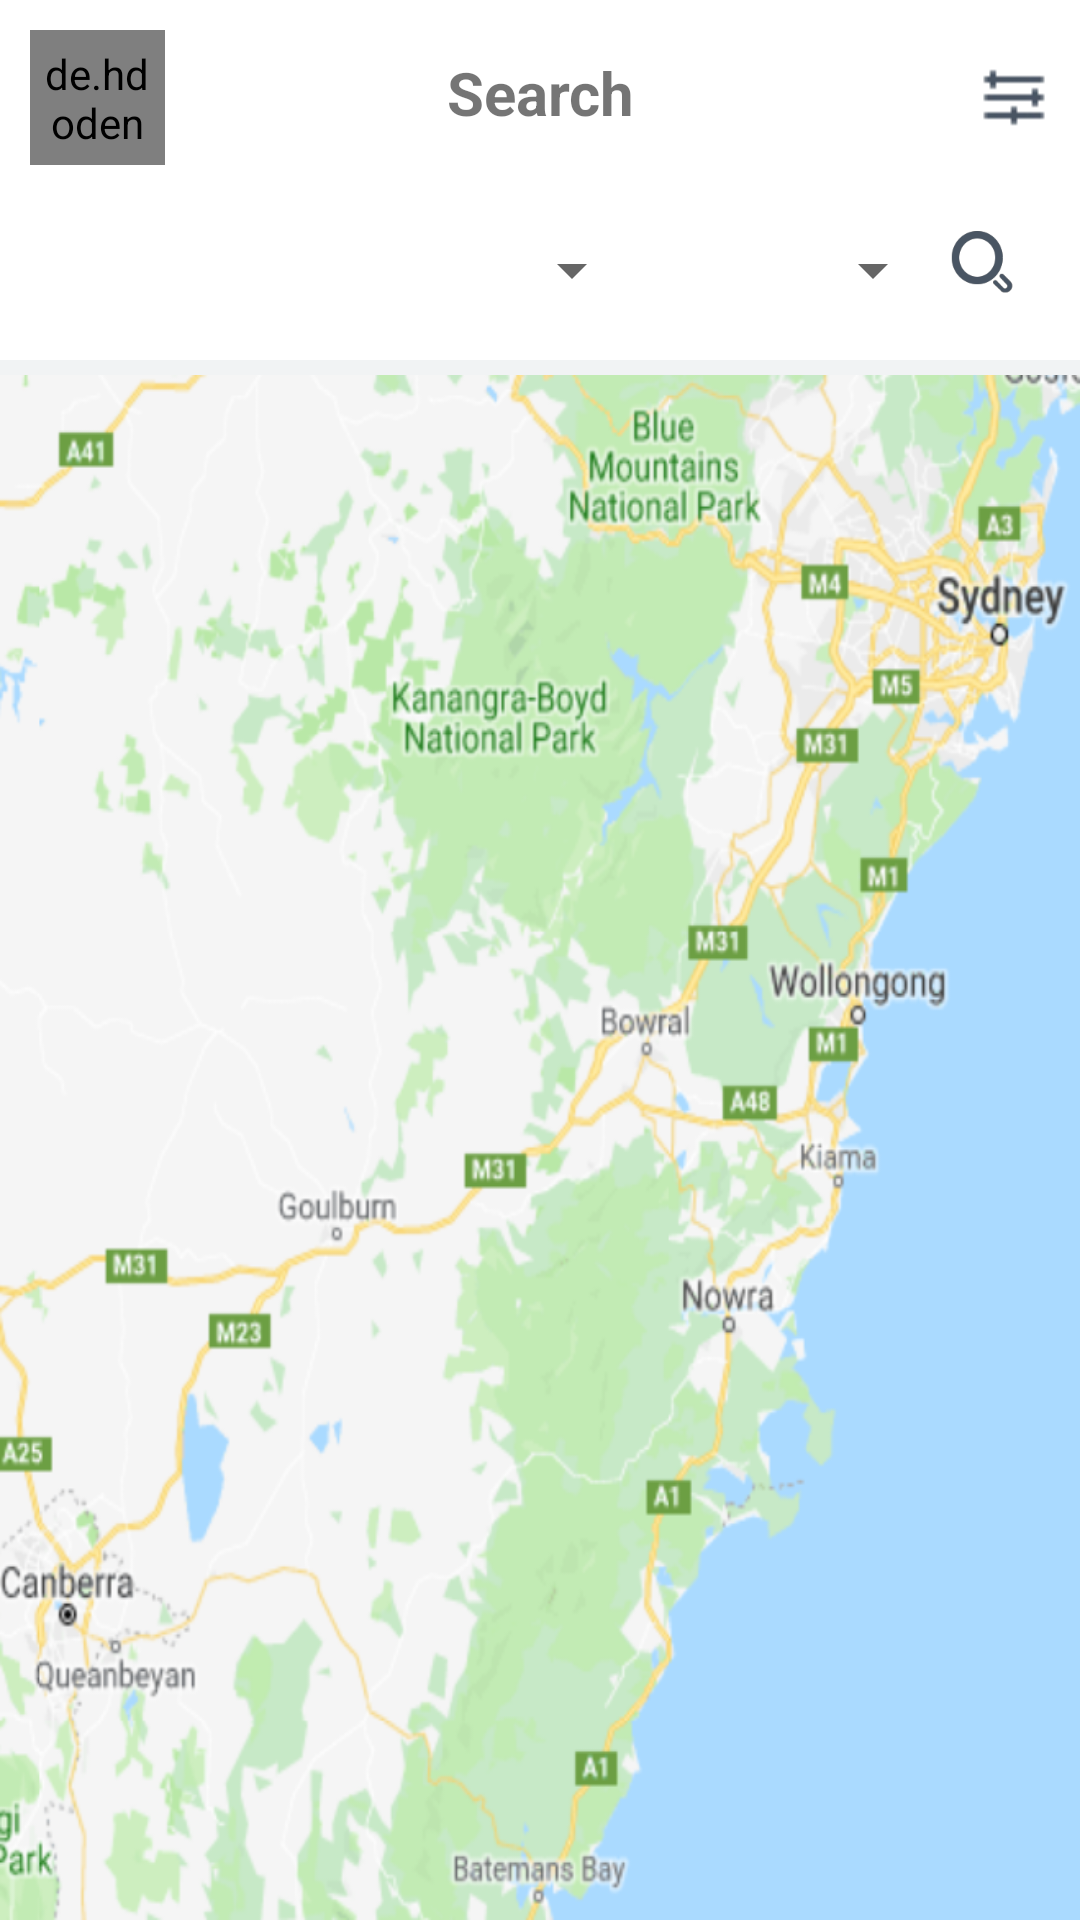

Where icons sit on this 1080px×1920px app screen, as box=[x1, y1, x2, y2]:
search: box=[951, 231, 1013, 293]
settings: box=[983, 70, 1045, 125]
